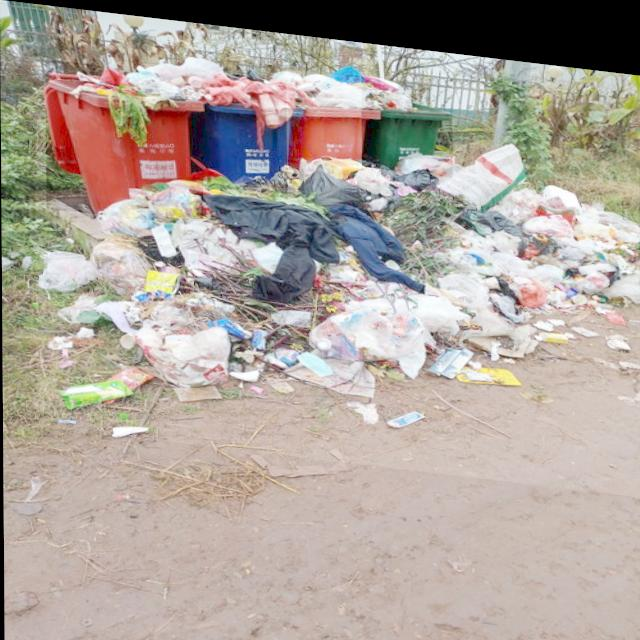garbage: (35, 86, 640, 482)
overflow: (45, 58, 203, 222), (186, 51, 304, 184), (286, 62, 381, 169), (361, 66, 453, 166)
